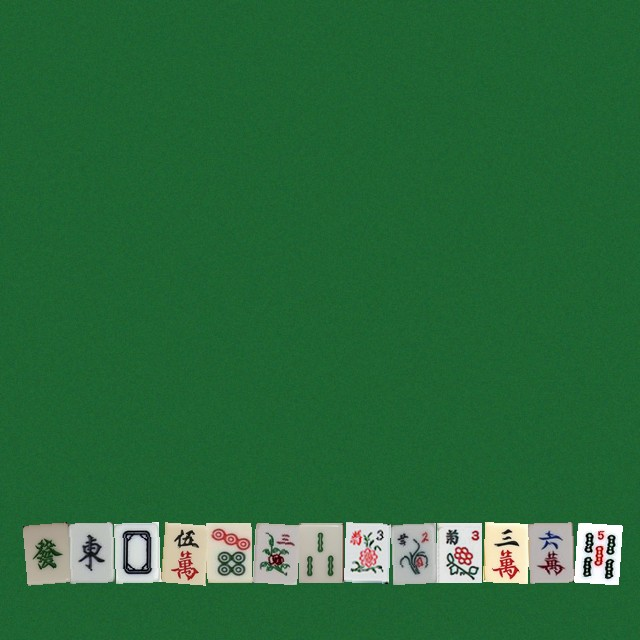tile: (22, 522, 67, 582), (68, 522, 113, 582), (114, 522, 159, 582), (160, 522, 205, 582), (206, 522, 251, 582), (252, 522, 297, 582), (298, 522, 343, 582), (344, 522, 389, 582), (390, 522, 435, 582), (436, 522, 481, 582), (482, 522, 527, 582), (528, 522, 573, 582), (574, 522, 619, 582)
